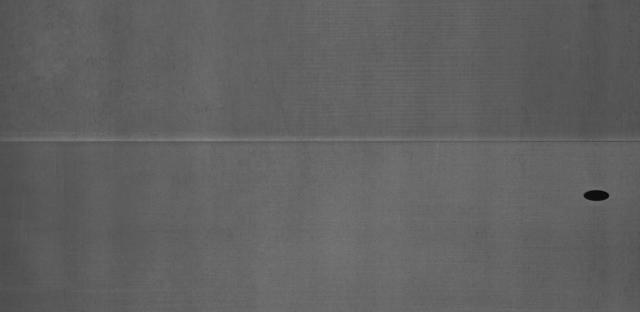punching_hole: (579, 184, 613, 205)
welding_line: (4, 125, 639, 156)
